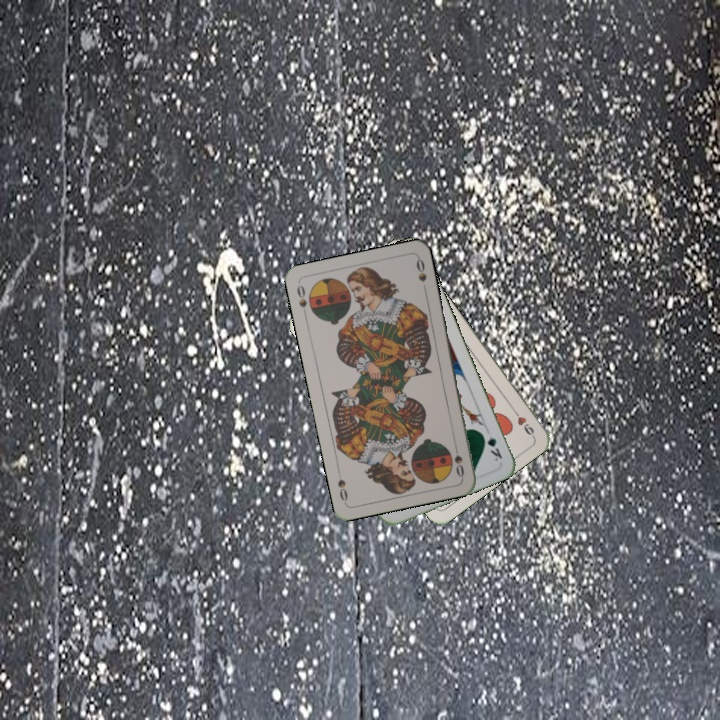GK: (477, 428, 505, 464)
H9: (508, 404, 537, 440)
SO: (450, 439, 467, 480), (293, 281, 309, 320)
